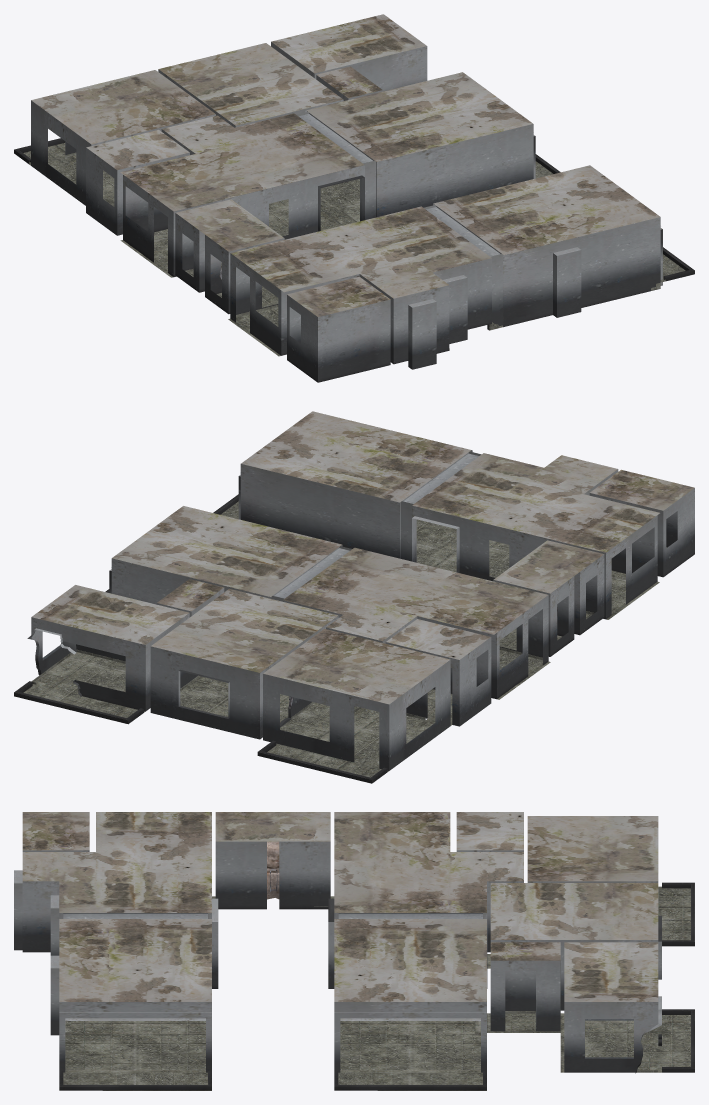
The model's file is H1 and H2 Structure.FBX.
The picture shows the model from 3 angles, top to bottom: view 1: azimuth 30°, elevation 25°; view 2: azimuth 150°, elevation 25°; view 3: azimuth 270°, elevation 25°; orthographic projection. The views are drawn at different scales.
Parts seen in each view (by area): view 1: H1_H2_Structure; view 2: H1_H2_Structure; view 3: H1_H2_Structure.
Part boxes in pixels (x1=…): H1_H2_Structure: x1=14, y1=14, x2=694, y2=382; H1_H2_Structure: x1=14, y1=411, x2=694, y2=783; H1_H2_Structure: x1=14, y1=812, x2=694, y2=1090.
Size of the model in its own units: 2024 by 351 by 2785.
1 material, 1 textured.
